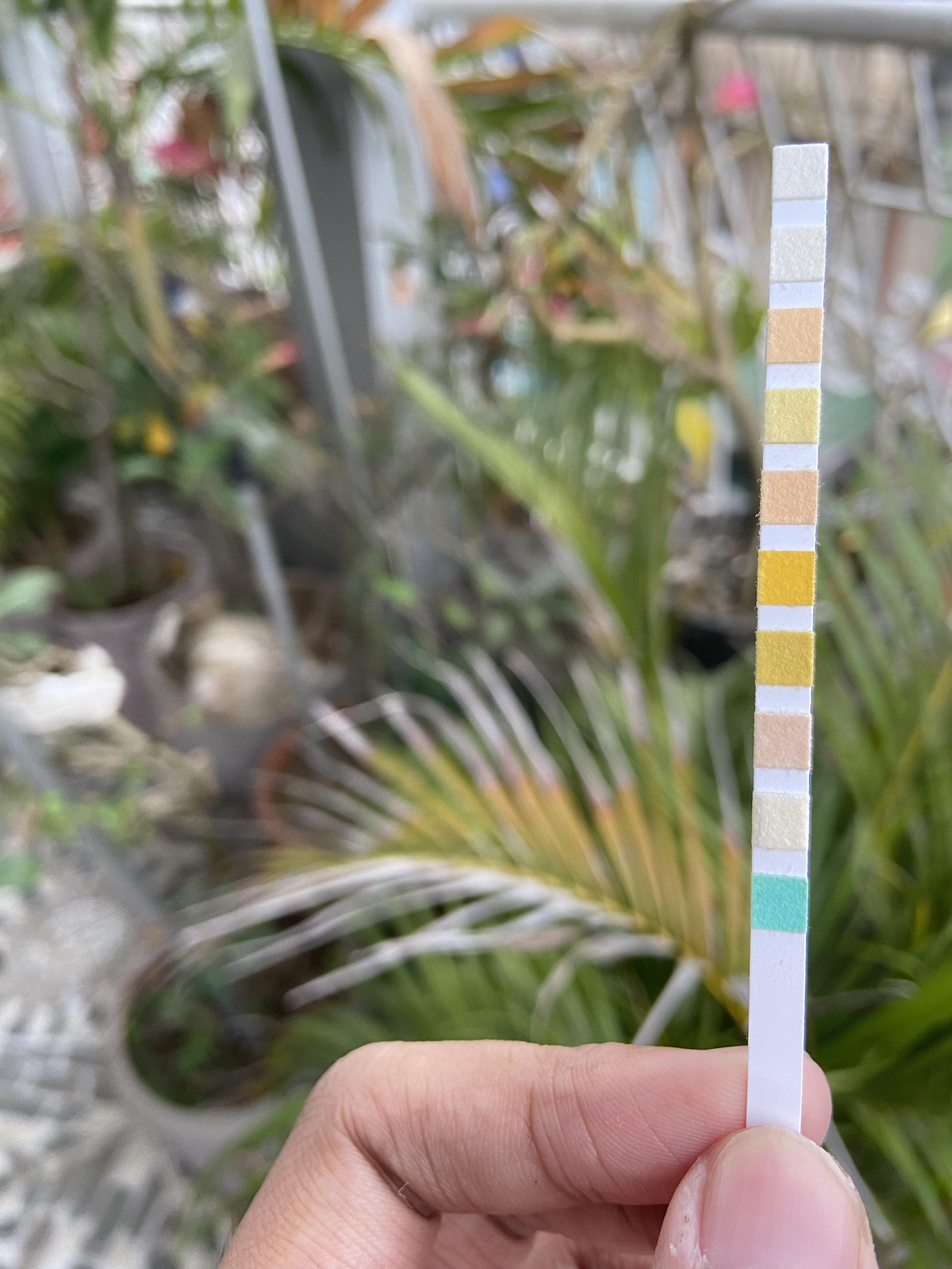Bilirubin: (755, 793, 810, 847)
Blood: (760, 552, 812, 604)
Glucose: (753, 876, 805, 932)
Ketone: (755, 716, 809, 766)
Leukocytes: (773, 149, 828, 197)
Nitrite: (772, 227, 823, 279)
Protein: (766, 391, 818, 442)
SpGravity: (758, 632, 810, 684)
Urobilinogen: (769, 310, 820, 362)
pH: (763, 472, 814, 522)
strip: (747, 144, 829, 1122)
